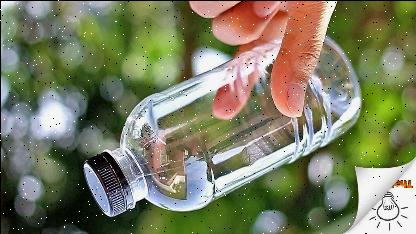Plastic Bottle: (78, 34, 362, 216)
